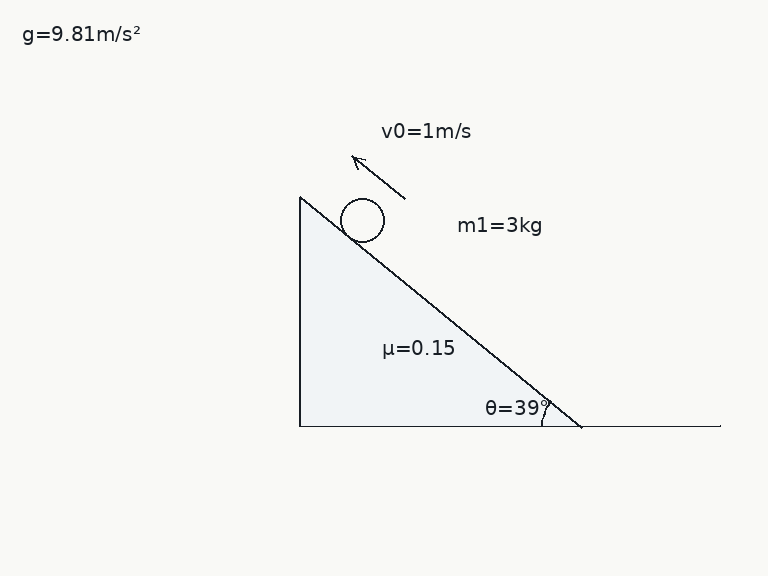ball: (338, 196, 386, 244)
ramp: (297, 195, 584, 428)
